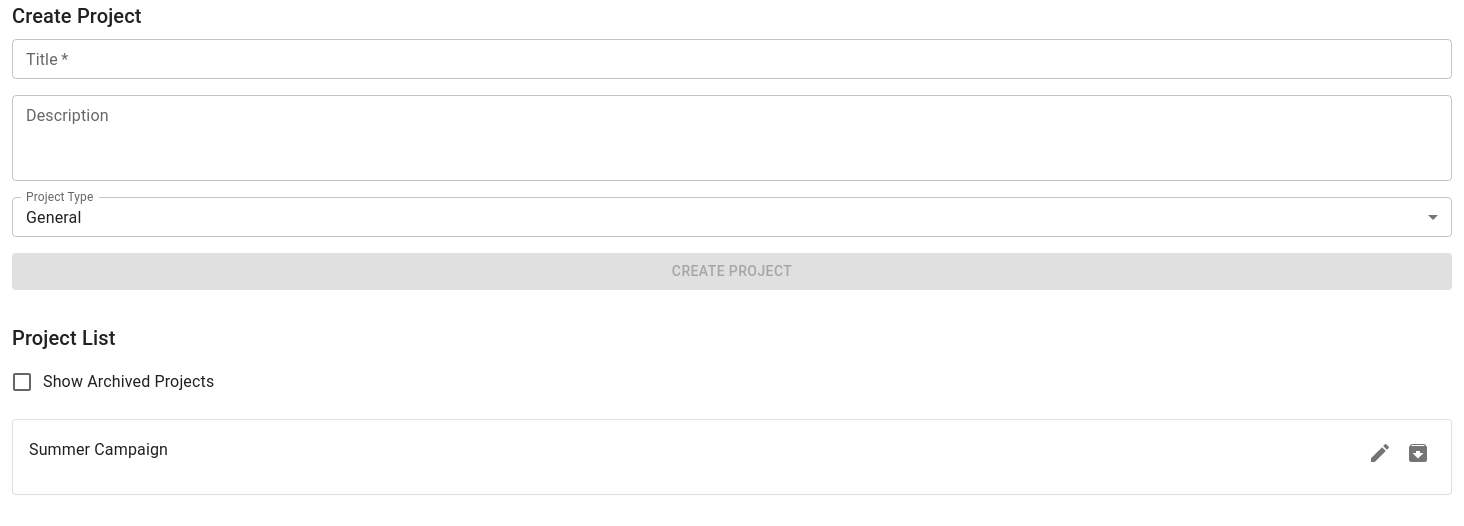
Test: ProjectsSection › passes editing project to ProjectForm when edit button clicked
Expected: the heading "Summer Campaign" is shown, [29, 436, 168, 464]
Step 1. Click the button named "edit" → [1380, 452], box [1363, 436, 1397, 470]
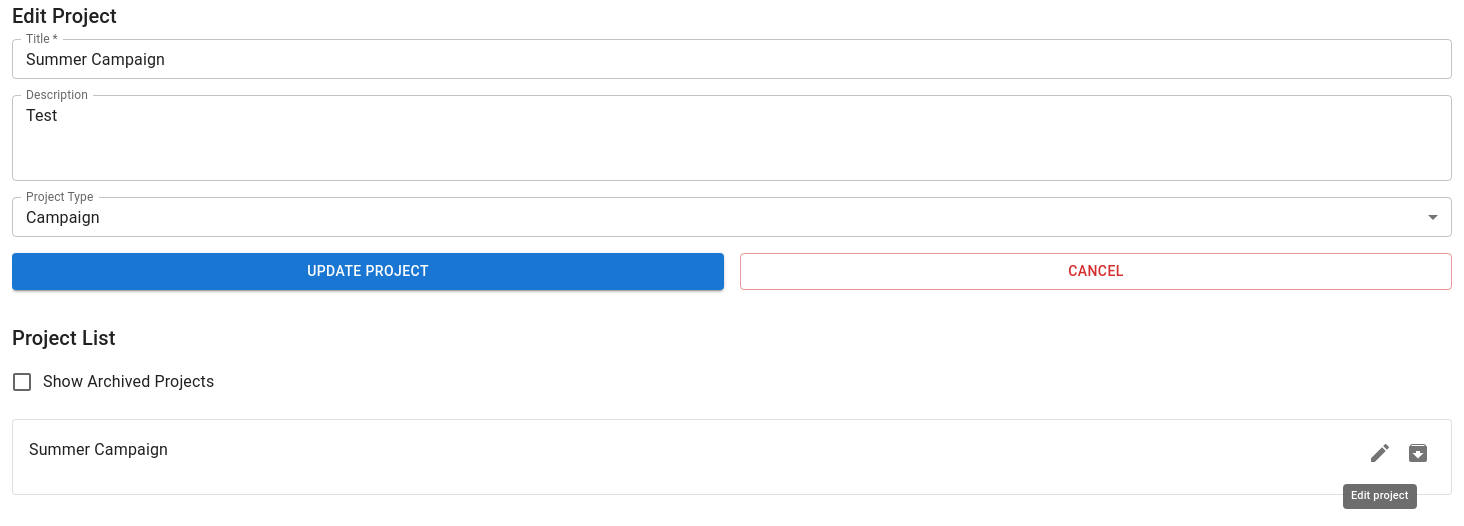
Expected: the field labelled "Title *" holds "Summer Campaign", [12, 39, 1452, 79]
